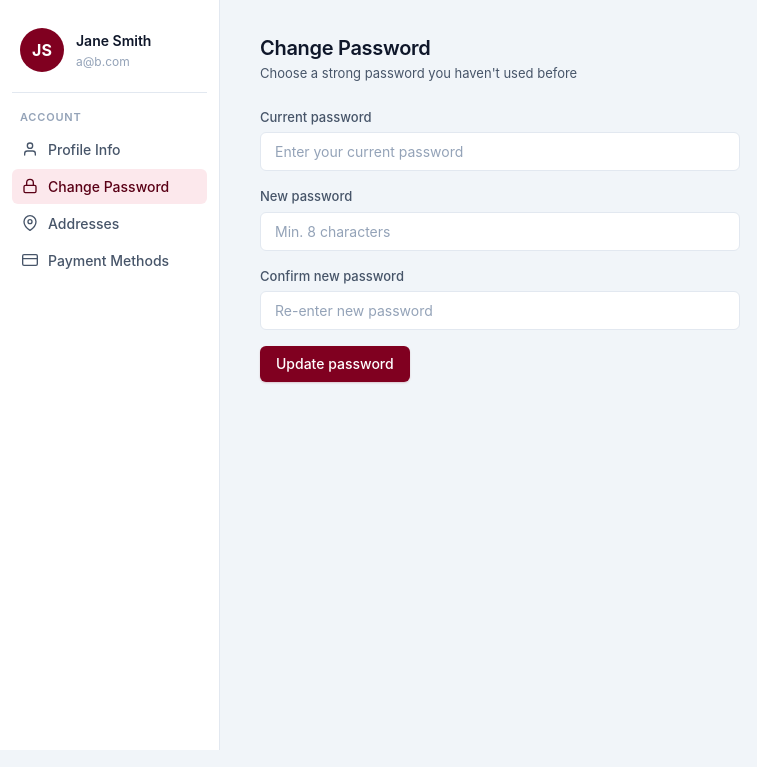
Test case: Profile page › ChangePasswordTab › shows server error when change-password fails
In the password field labelled "Current password": (500, 152) [260,132,740,171], type "wrongpass"
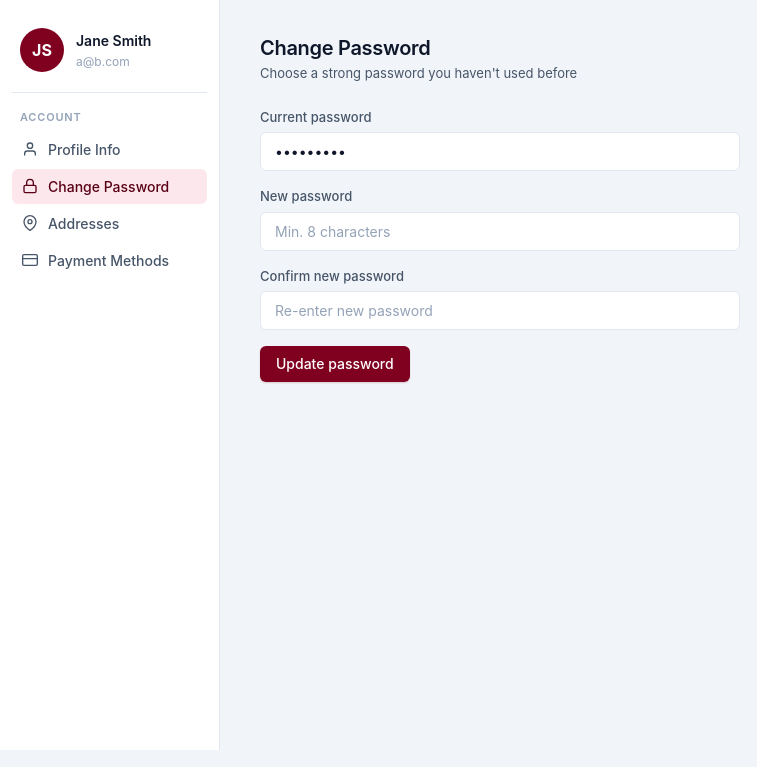
In the password field labelled "New password": (500, 231) [260,212,740,250], type "newpass123"
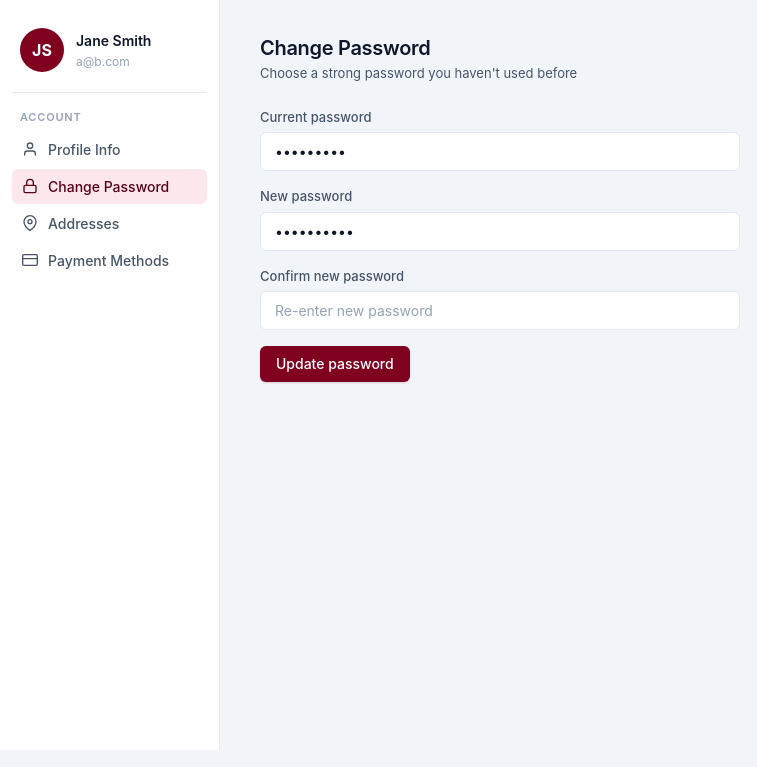
In the password field labelled "Confirm new password": (500, 310) [260,291,740,330], type "newpass123"
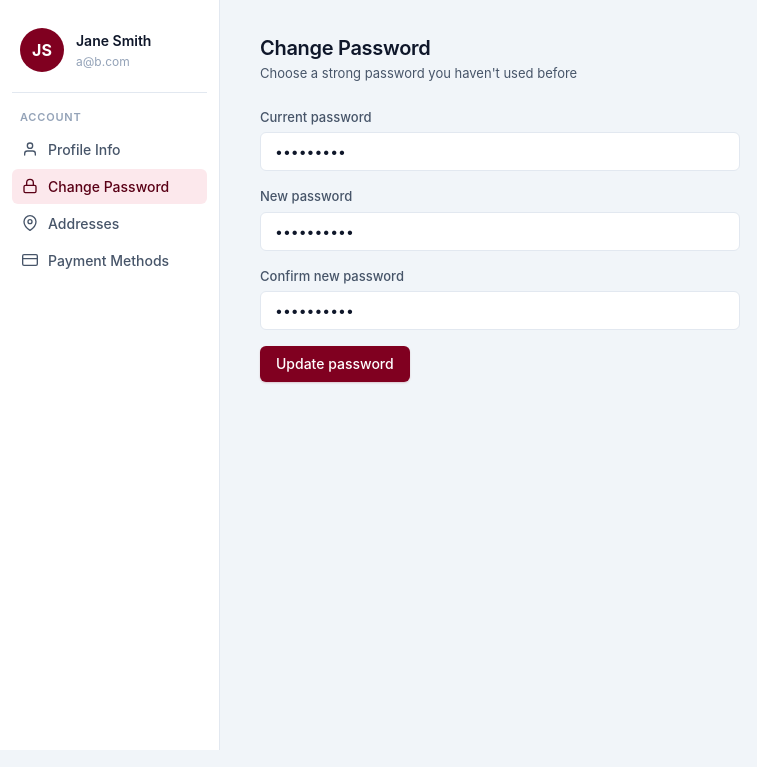
Click the button "Update password": (335, 364) [260,346,410,382]
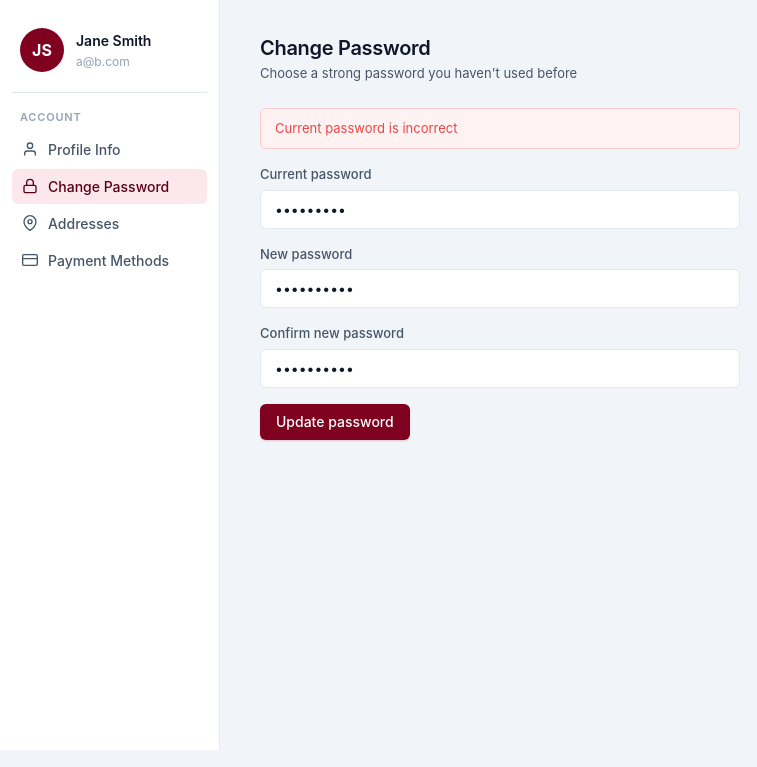
Result: the text "Current password is incorrect" is shown at [260,108,740,149]
